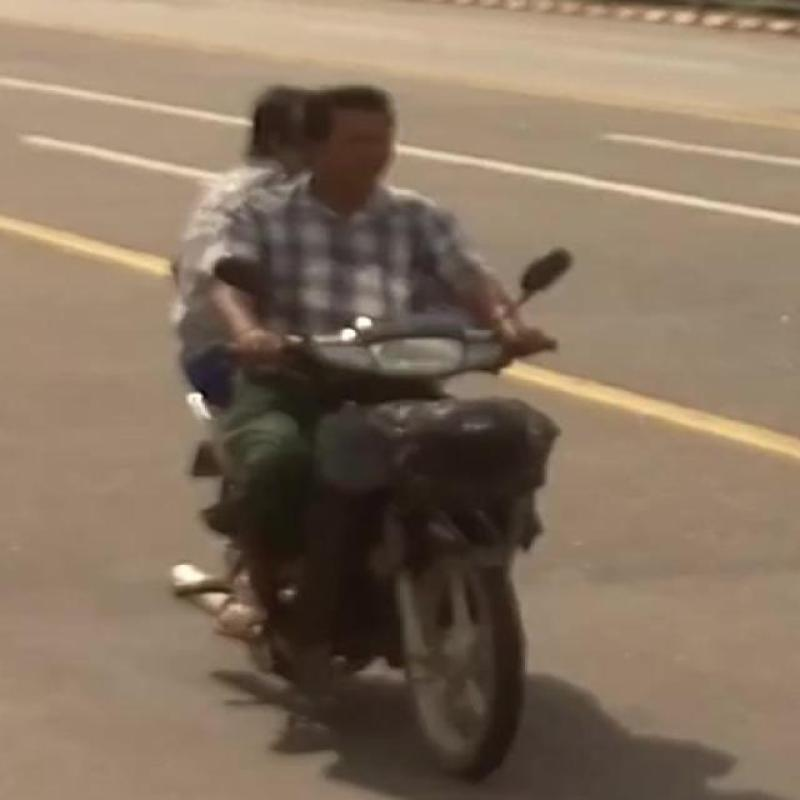nohelmet: (298, 73, 420, 208)
